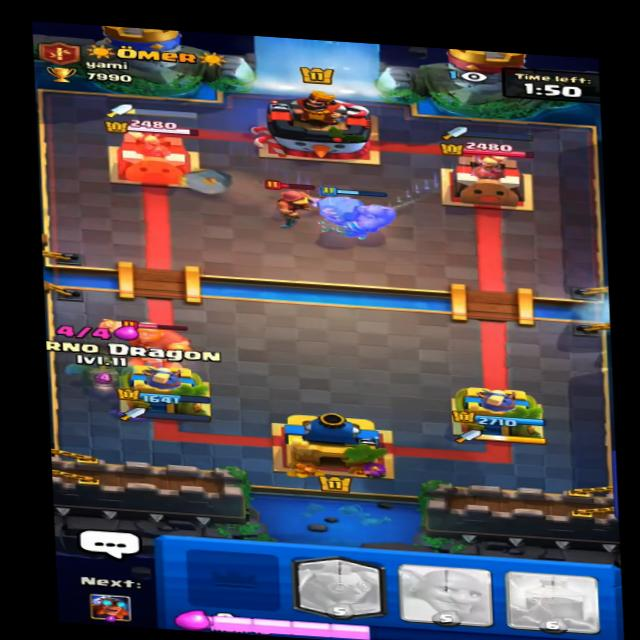fisherman: (261, 177, 321, 223)
giant: (99, 315, 220, 381)
